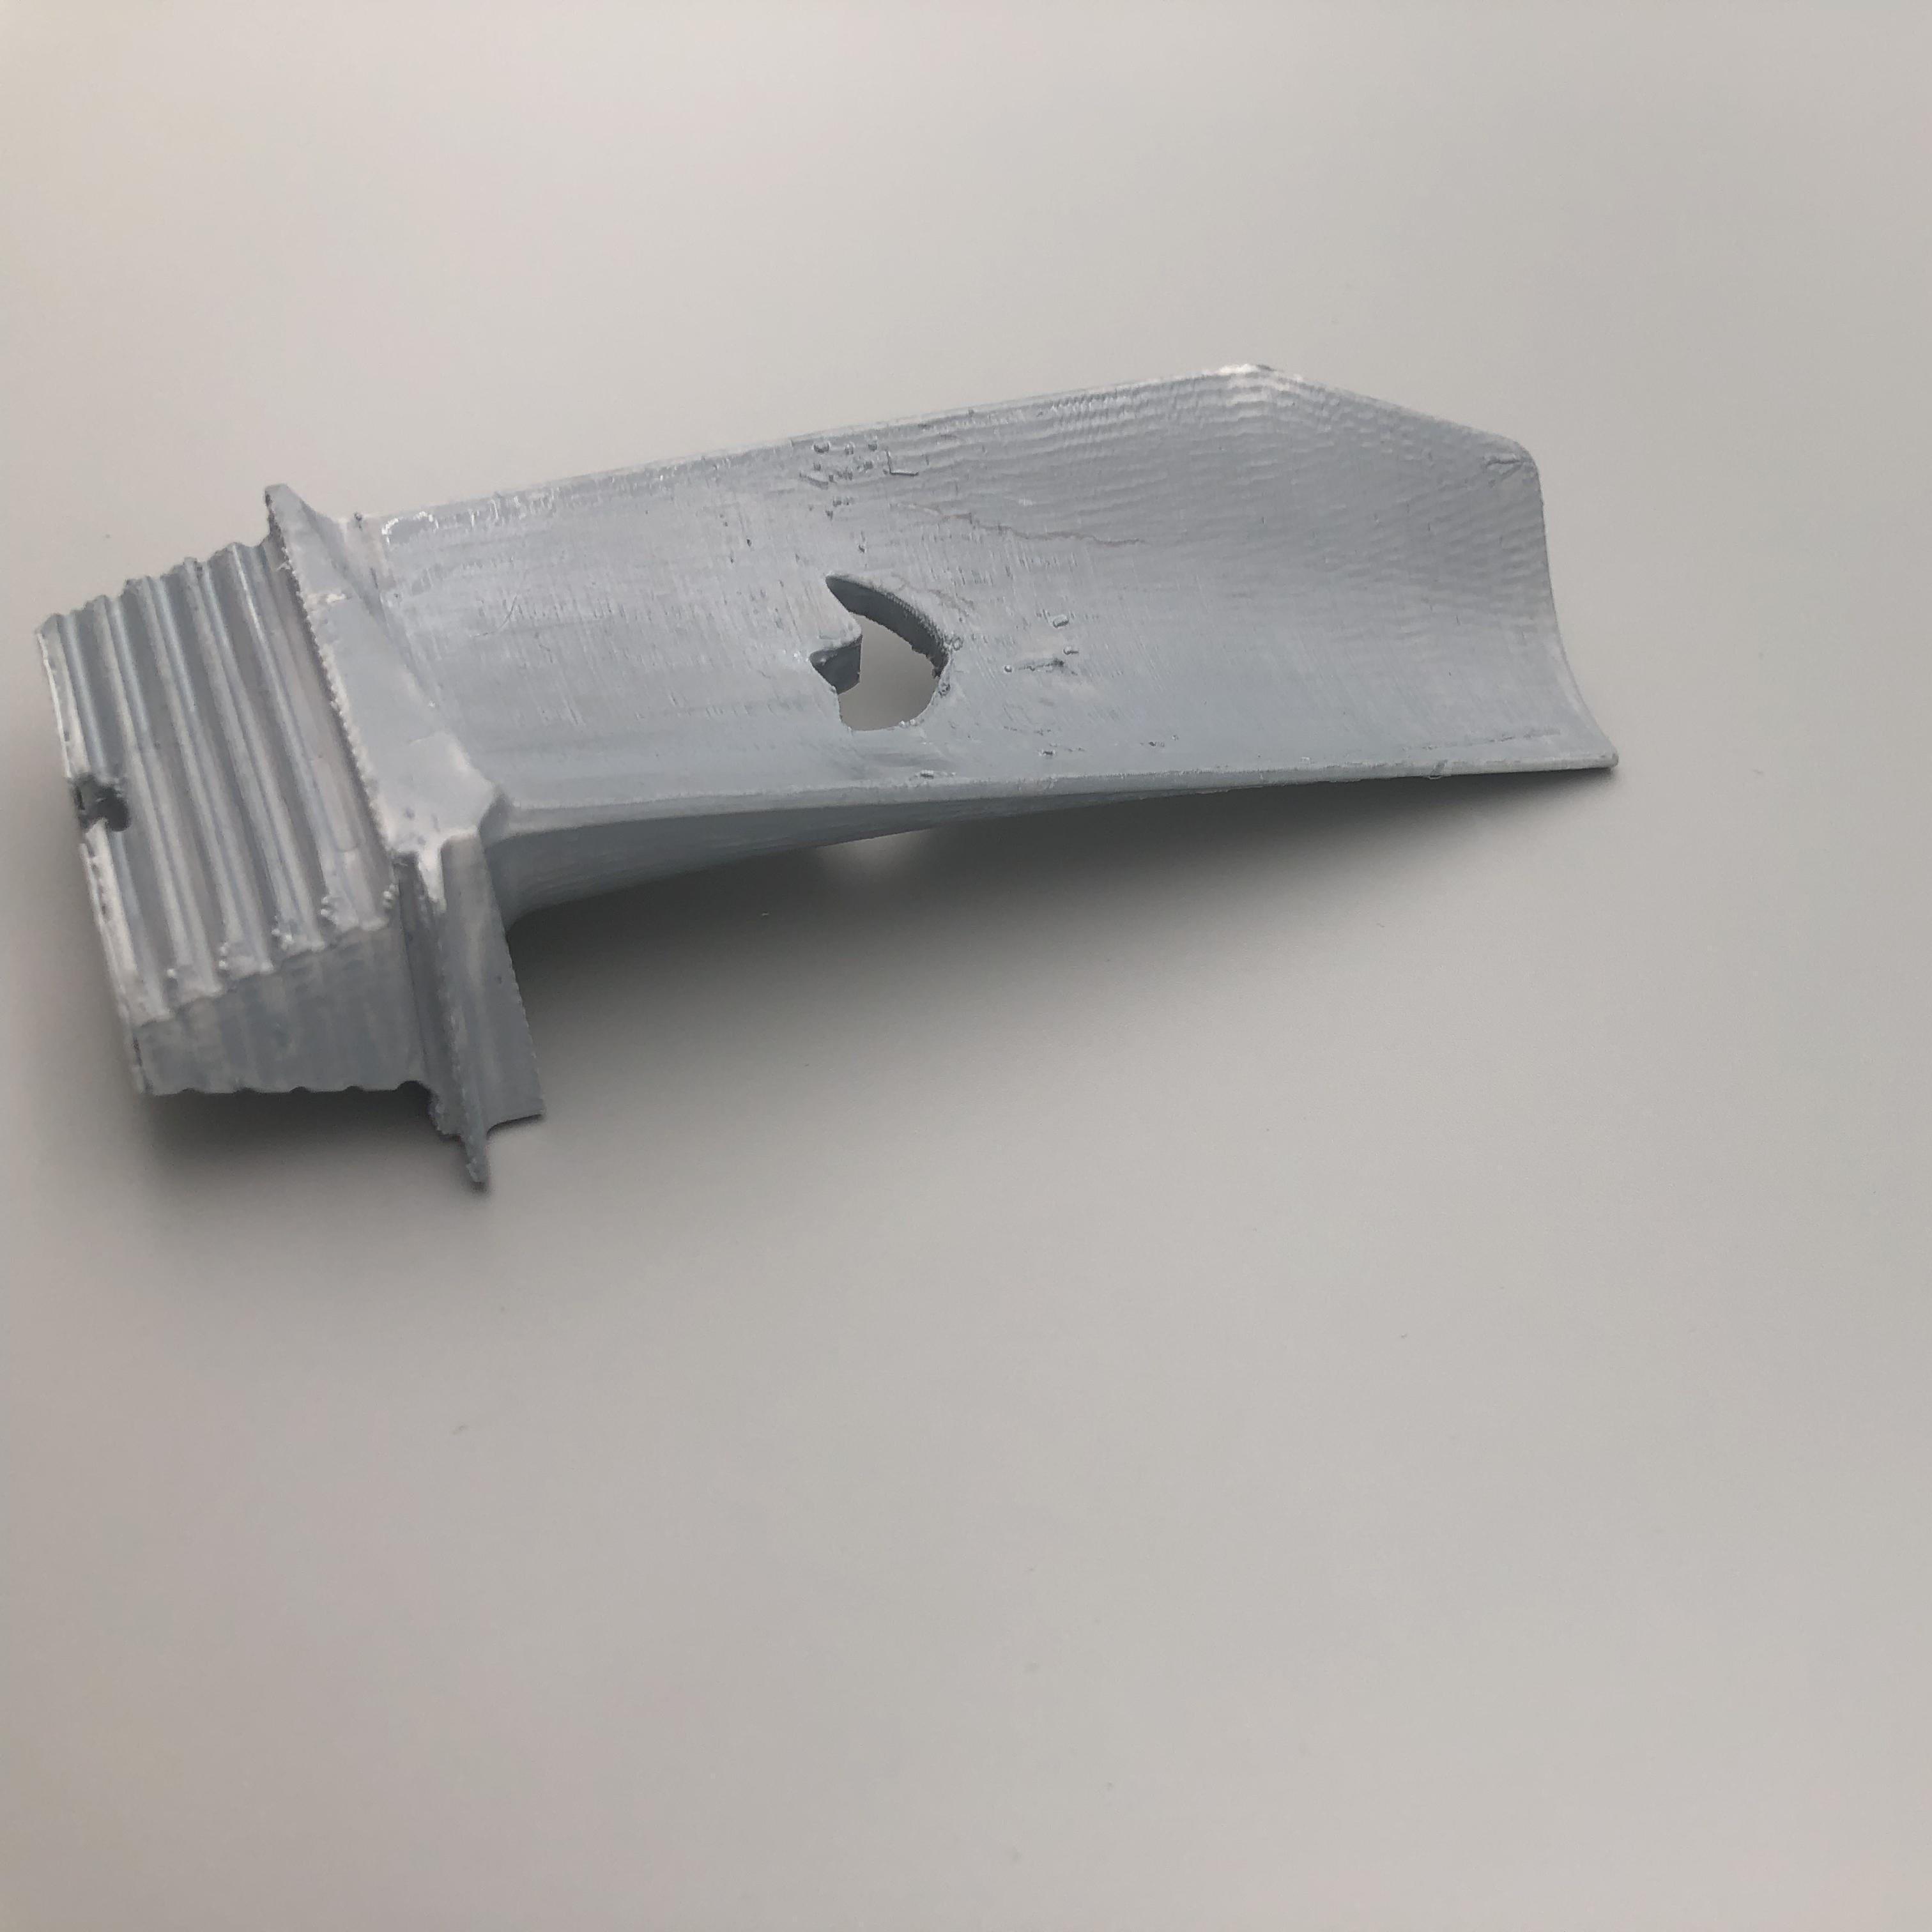breakdown: (800, 559, 973, 754)
